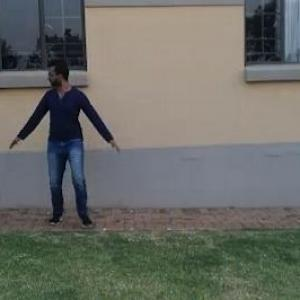land: (18, 54, 125, 235)
